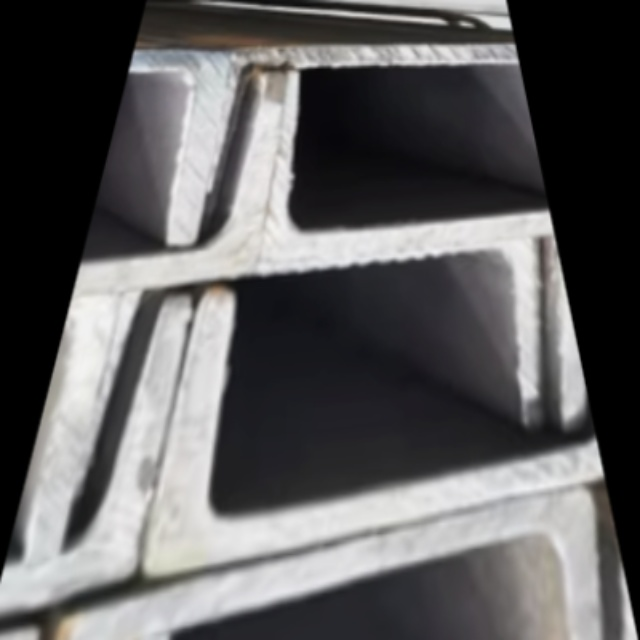Shveller: (146, 262, 611, 574), (77, 244, 561, 489), (15, 492, 629, 640), (105, 502, 640, 640), (204, 38, 548, 233), (0, 299, 187, 640), (262, 64, 556, 271), (72, 57, 280, 297), (0, 295, 116, 640), (81, 27, 233, 260)
